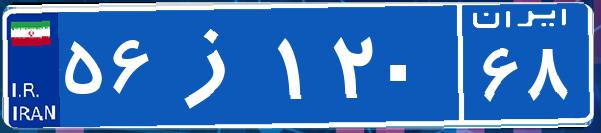0: (385, 28, 445, 110)
1: (273, 28, 330, 110)
2: (330, 28, 385, 110)
5: (57, 26, 110, 107)
6: (475, 38, 525, 113), (110, 28, 158, 105)
8: (525, 38, 570, 115)
ز: (158, 15, 273, 115)
